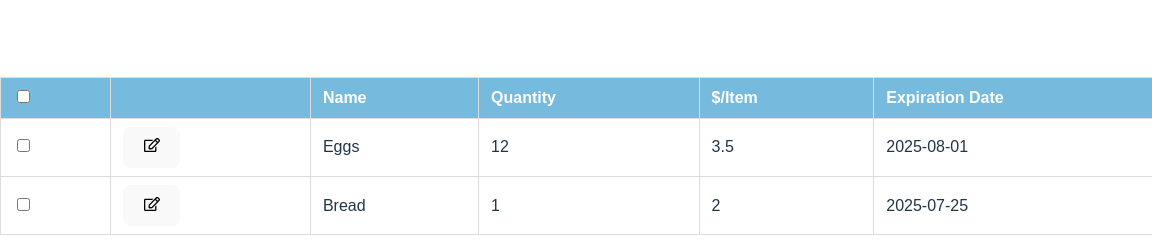
it: List › Tests that useWithin and comments are displayed when hovering over a row and disappears when mouse leaves
# Hover over the first row
Hover over the row with test id "itemList" showing "Eggs 12 3.5 2025-08-01 Fridge": (576, 147) [0,118,1151,176]
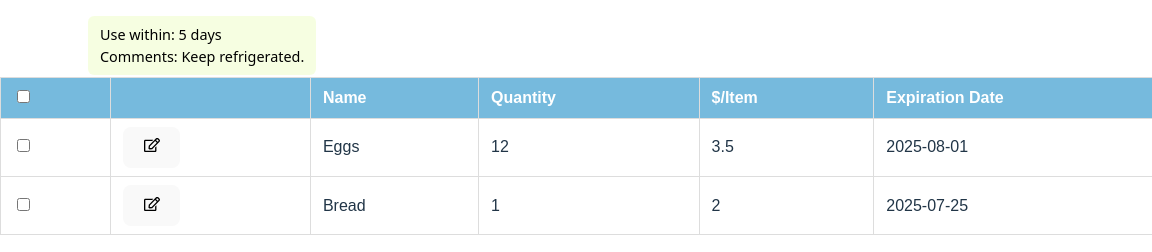
Expected: the text "Comments: Keep refrigerated." is shown, [88,16,316,75]
# Hover over the second row (Bread)
Move the pointer off the row with test id "itemList" showing "Eggs 12 3.5 2025-08-01 Fridge", box [0,118,1151,176]
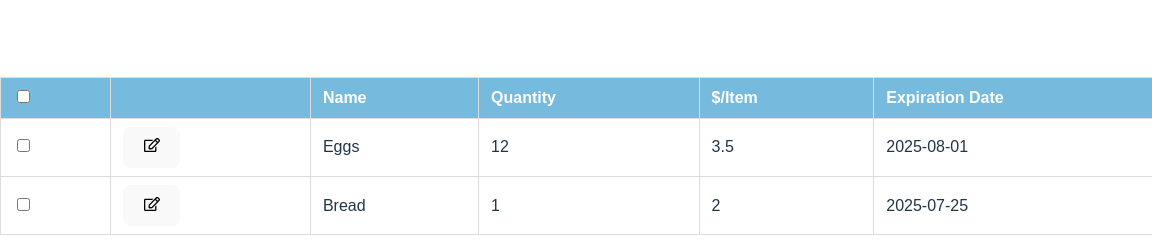
Hover over the row with test id "itemList" showing "Bread 1 2 2025-07-25 Pantry": (576, 206) [0,176,1151,235]
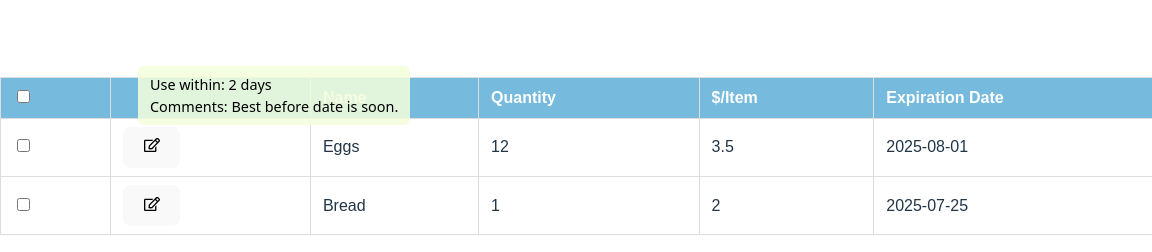
Expected: the text "Comments: Best before date is soon." is shown, [138,66,410,125]
# textbox disappears when mouse leave the row
Move the pointer off the row with test id "itemList" showing "Bread 1 2 2025-07-25 Pantry", box [0,176,1151,235]
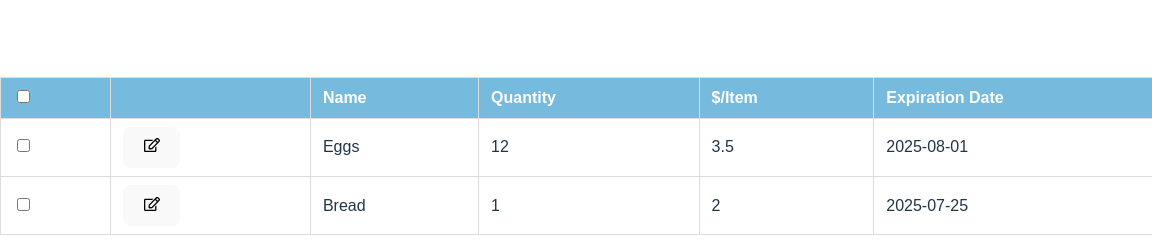
Expected: the text "Use within:" is gone
